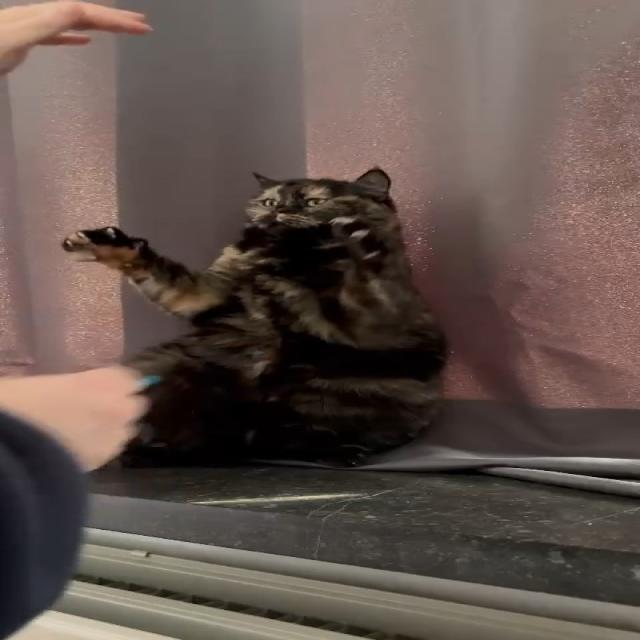authorized: (60, 165, 449, 469)
